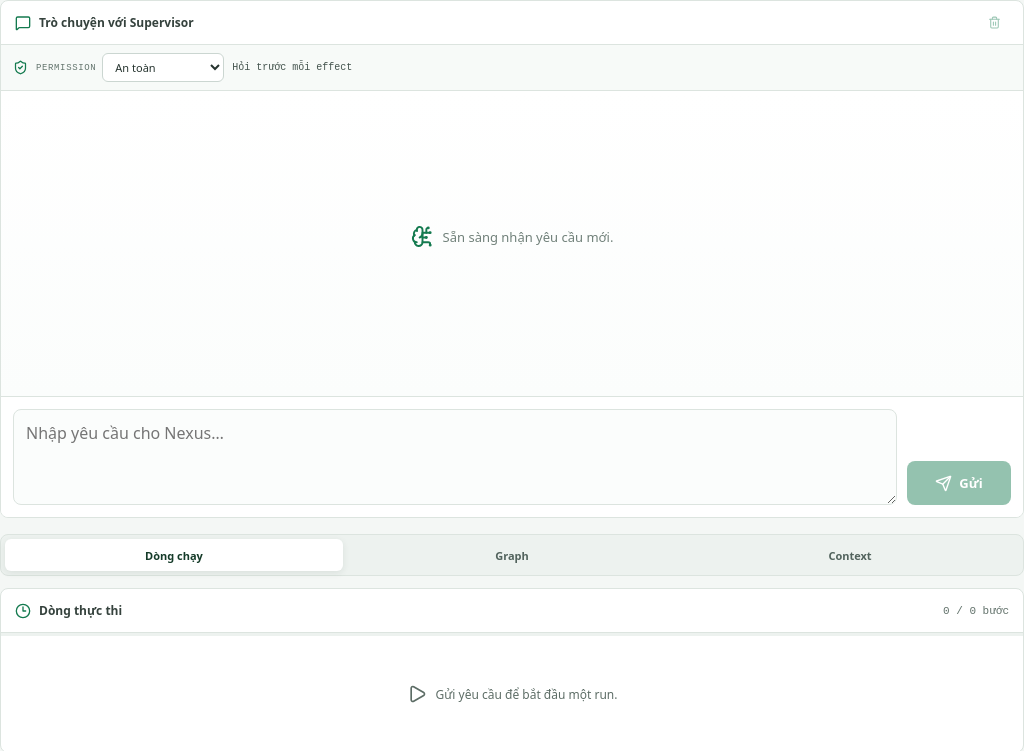
Test: Radix inspector tabs expose one selected panel at a time
Press the mouse on the tab "Graph" at (512, 555), box [343,539,681,571]
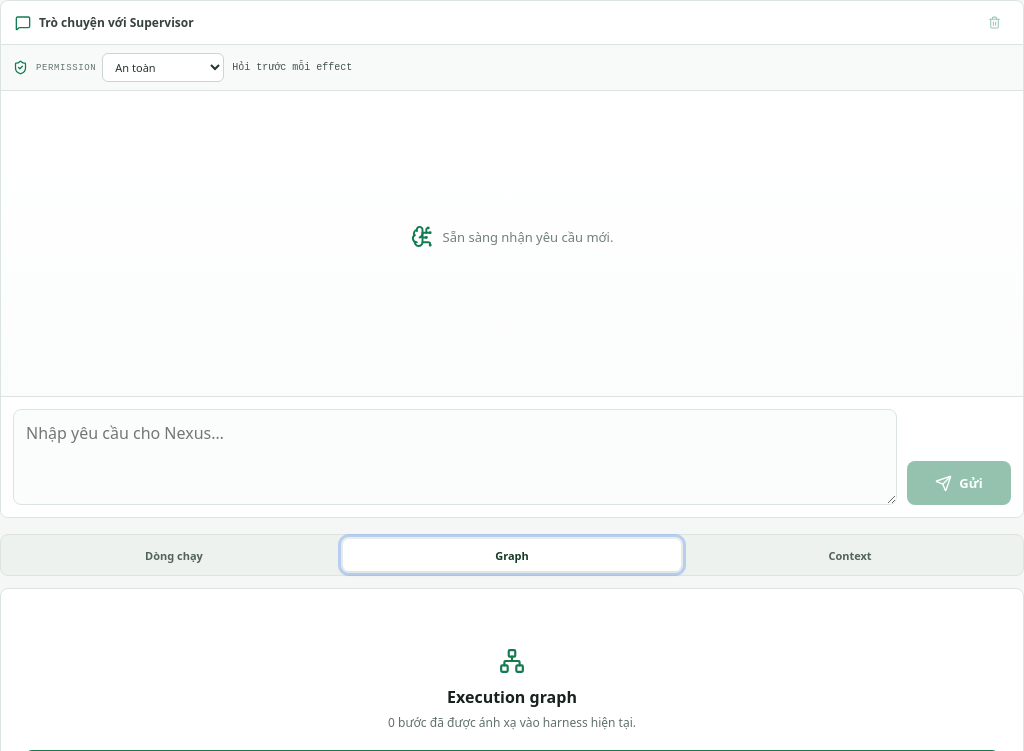
Expected: the heading "Execution graph" is shown, [447,686,577,708]
